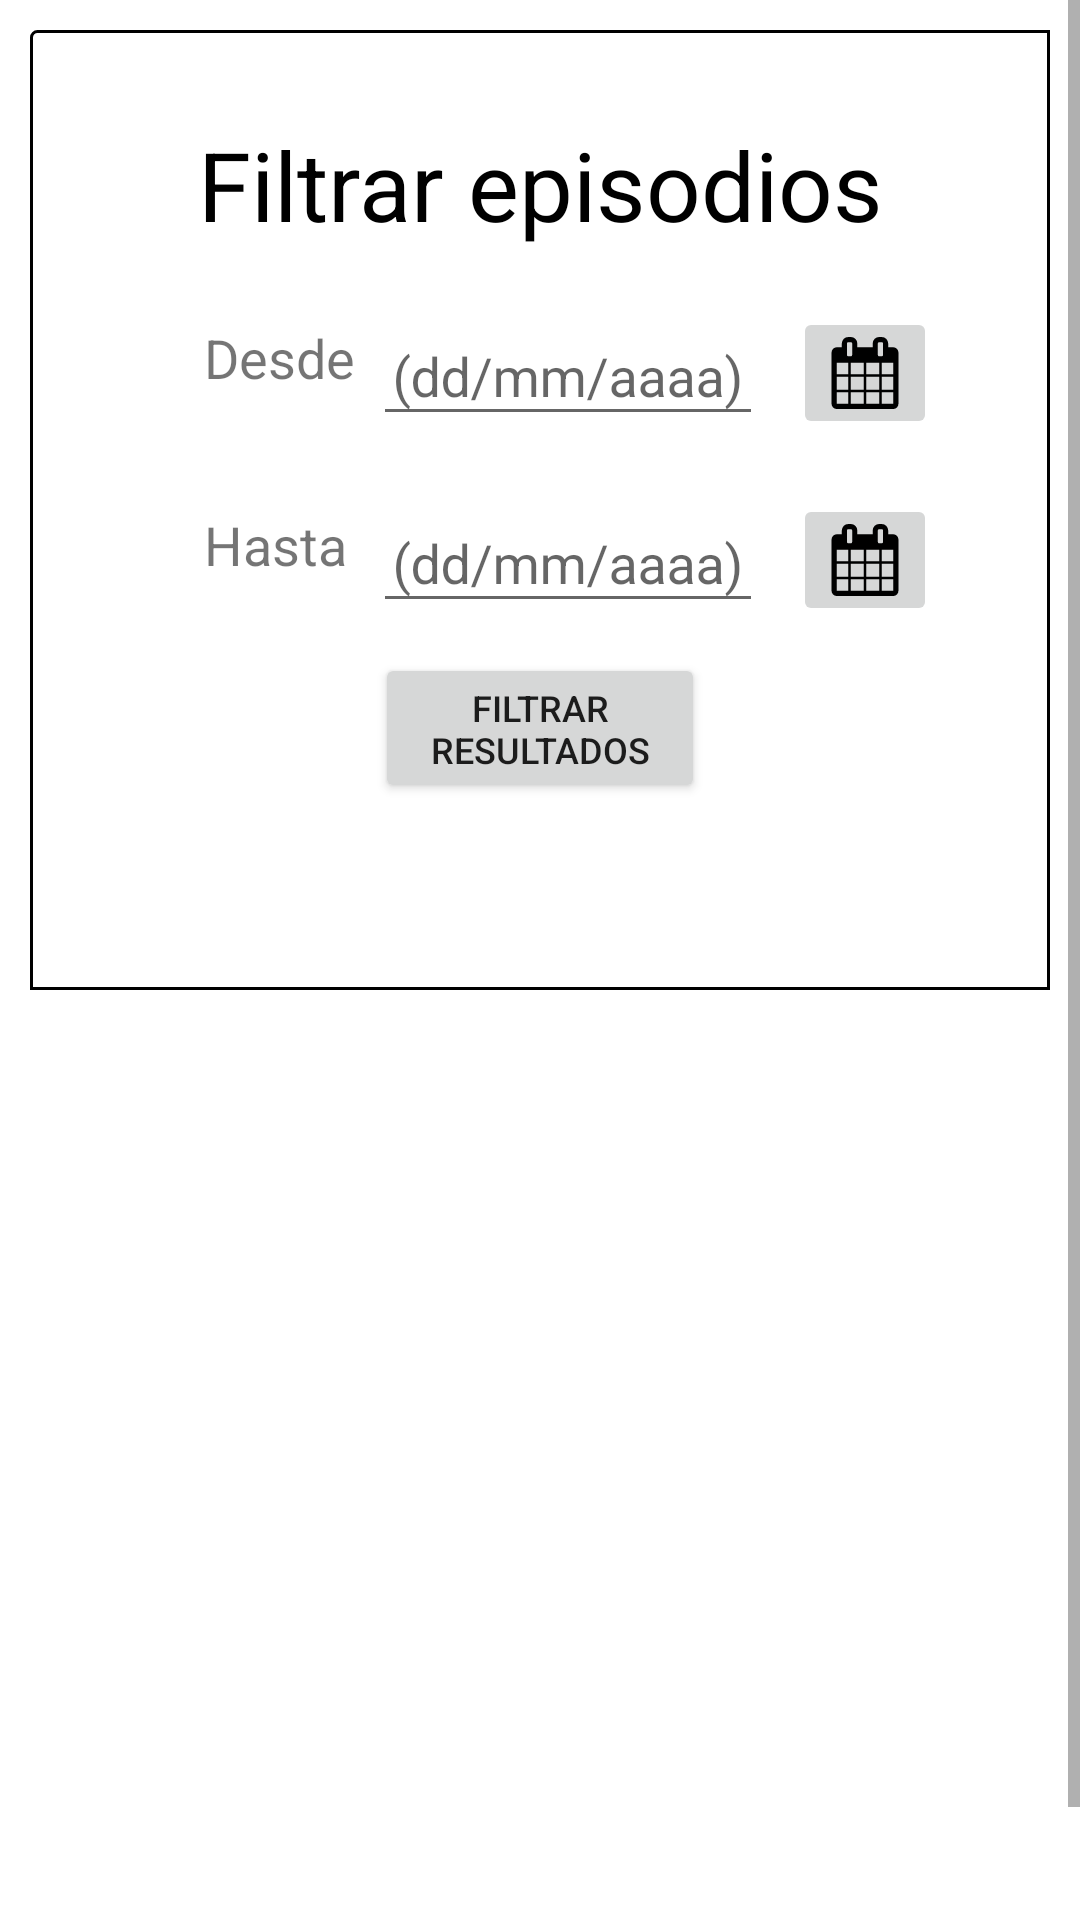

Screen size 1080x1920. Icon name, then its center in pixels as point (x, y):
calendar: point (865, 373), point (865, 560)
